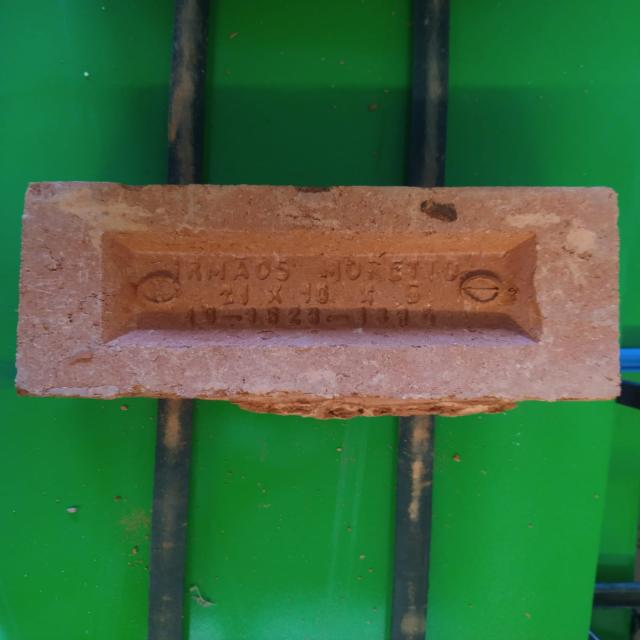bricks_ruin: (16, 182, 623, 416)
